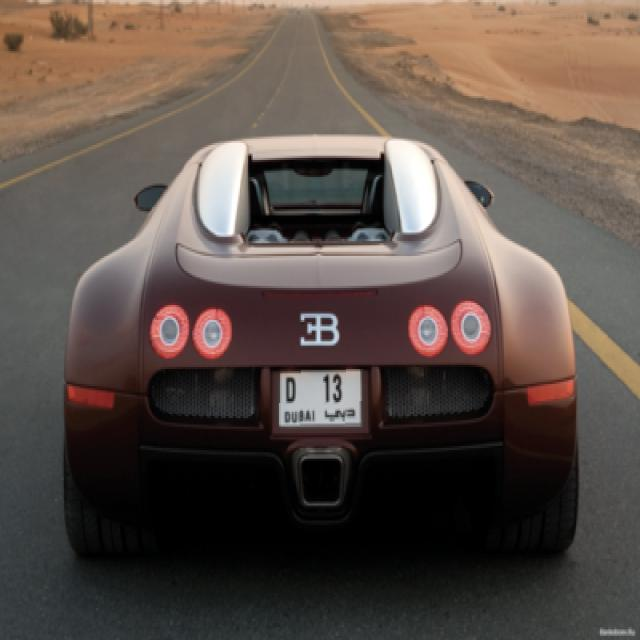licence: (278, 369, 364, 427)
